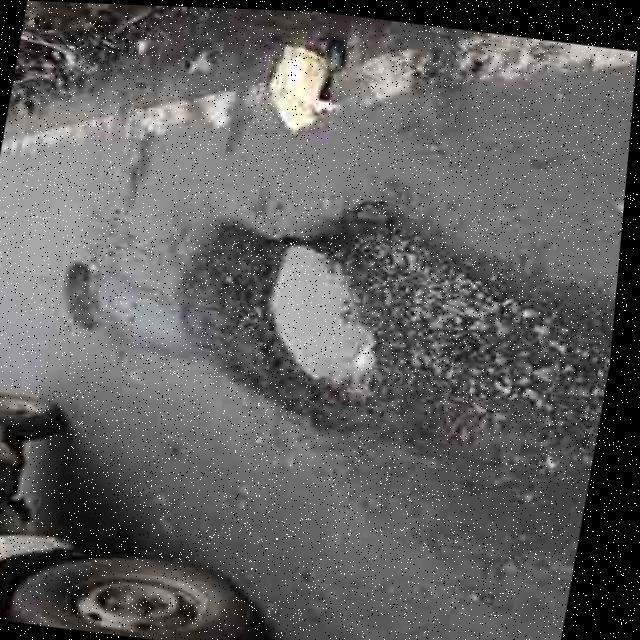Pothole: (174, 194, 613, 496), (64, 261, 101, 329)
